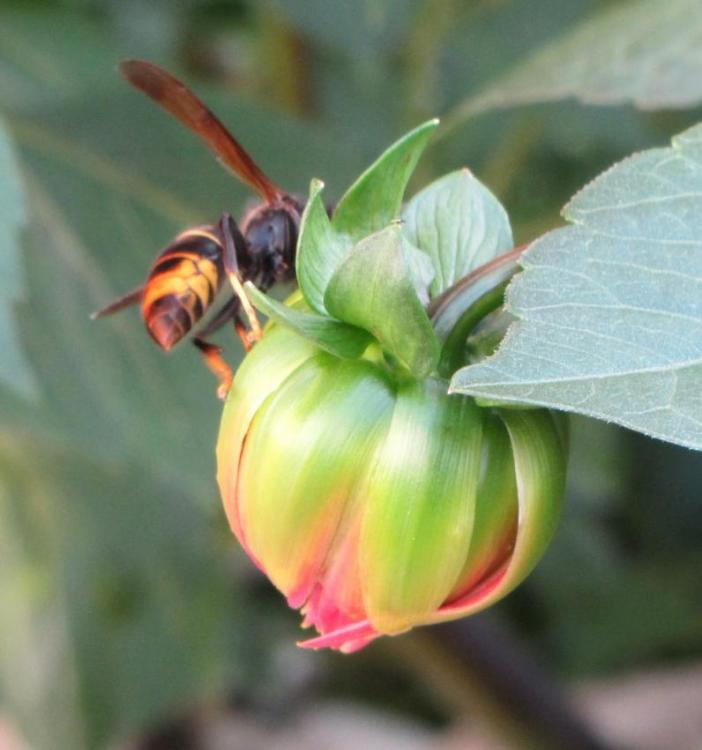hornet: (113, 110, 320, 386)
